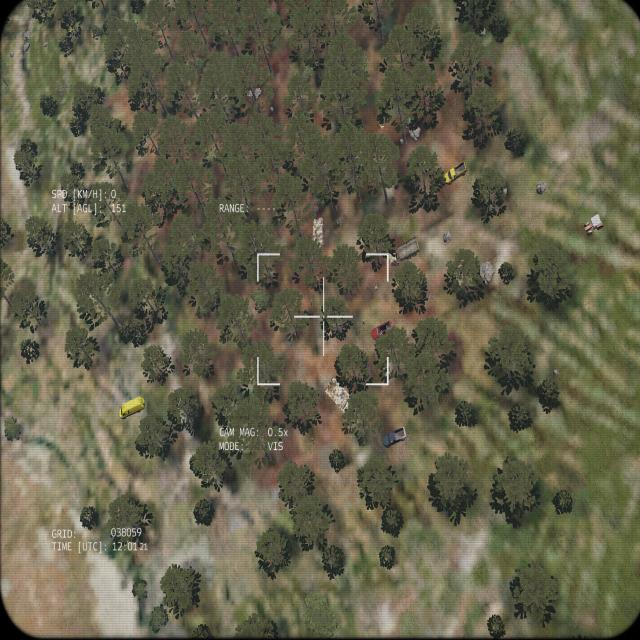apc: (311, 215, 325, 248)
car: (437, 152, 469, 186), (112, 398, 148, 420), (380, 425, 412, 448), (368, 321, 397, 341)
tank: (318, 371, 352, 412)
truck: (388, 236, 421, 262)
